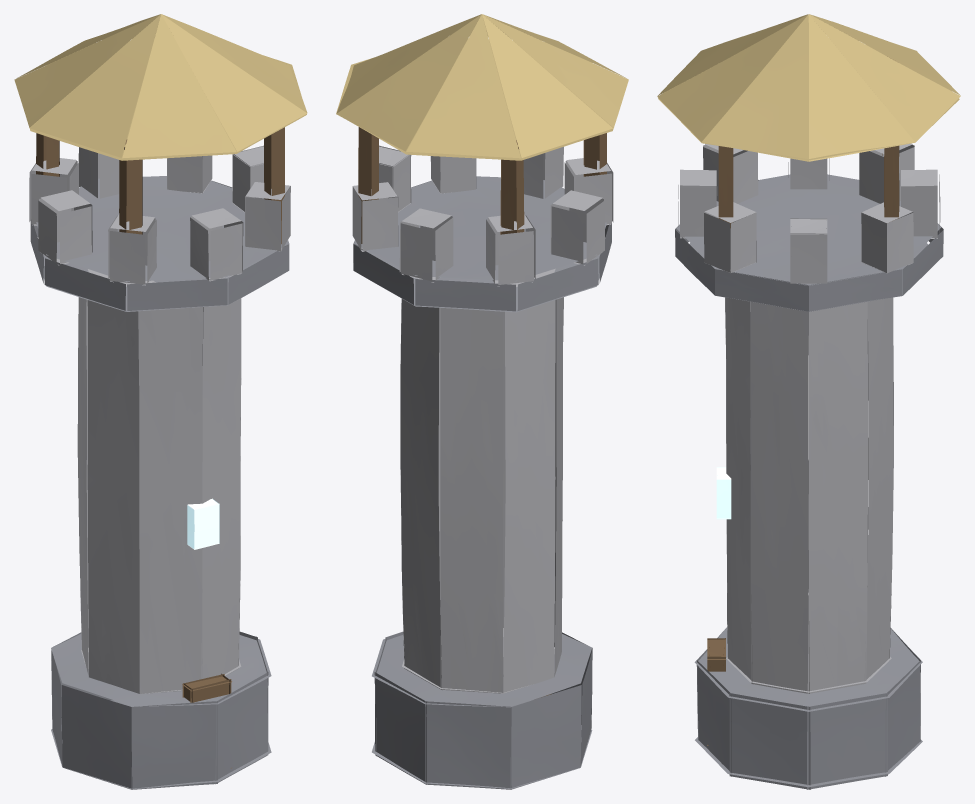
Rendered from watchtower.glb.
The picture shows the model from 3 angles, left to right: view 1: azimuth 30°, elevation 25°; view 2: azimuth 150°, elevation 25°; view 3: azimuth 270°, elevation 25°; orthographic projection.
Parts seen in each view (by area): view 1: TowerBase; view 2: TowerBase; view 3: TowerBase.
Part boxes in pixels (x1,y1,x2,y2): TowerBase: (14,14,307,789); TowerBase: (336,14,628,789); TowerBase: (657,14,960,789).
Size of the model in its own units: 1.64 by 4.37 by 1.65.
